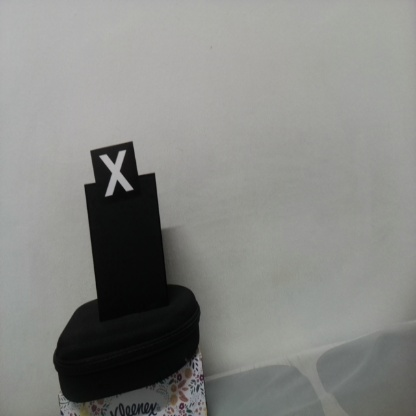id_13: (90, 150, 139, 208)
